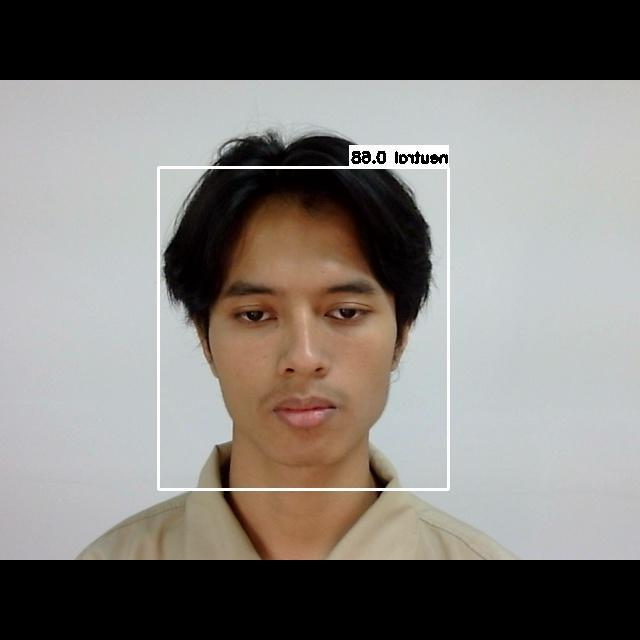Natural: (208, 263, 392, 462)
